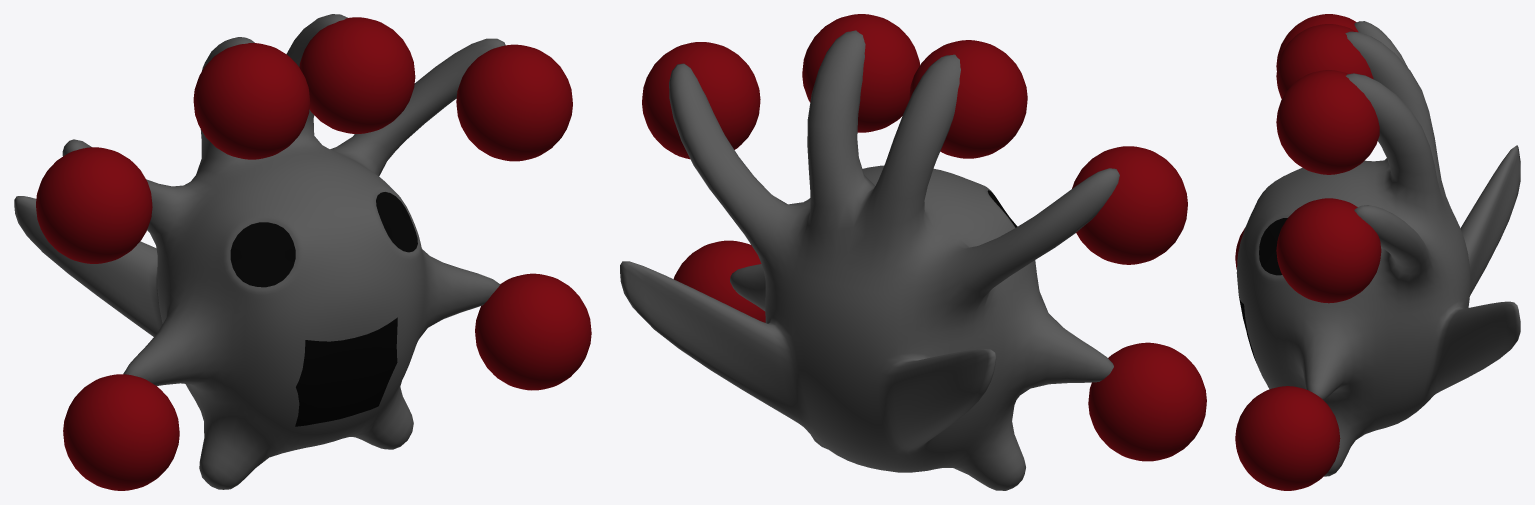
Rendered from alien.fbx.
3 renders of one model, left to right at view 1: azimuth 30°, elevation 25°; view 2: azimuth 150°, elevation 25°; view 3: azimuth 270°, elevation 25°, orthographic. The views are drawn at different scales.
Parts seen in each view (by area): view 1: Corps de base, Sphere.007, Sphere.008, Sphere.006; view 2: Corps de base, Sphere.007, Sphere.006, Sphere.008; view 3: Corps de base, Sphere.006, Sphere.007, Sphere.008.
Boxes of the visible parts, bbox=[...] form: Corps de base: bbox=[14, 14, 505, 489]; Sphere.007: bbox=[36, 44, 572, 263]; Sphere.008: bbox=[63, 273, 591, 490]; Sphere.006: bbox=[193, 17, 415, 159]; Corps de base: bbox=[620, 30, 1119, 490]; Sphere.007: bbox=[642, 42, 1187, 264]; Sphere.006: bbox=[802, 14, 1027, 158]; Sphere.008: bbox=[673, 240, 1206, 461]; Corps de base: bbox=[1236, 21, 1520, 476]; Sphere.006: bbox=[1276, 24, 1379, 174]; Sphere.007: bbox=[1276, 14, 1381, 303]; Sphere.008: bbox=[1235, 227, 1340, 490].
Size of the model in its own units: 366 by 289 by 193.
